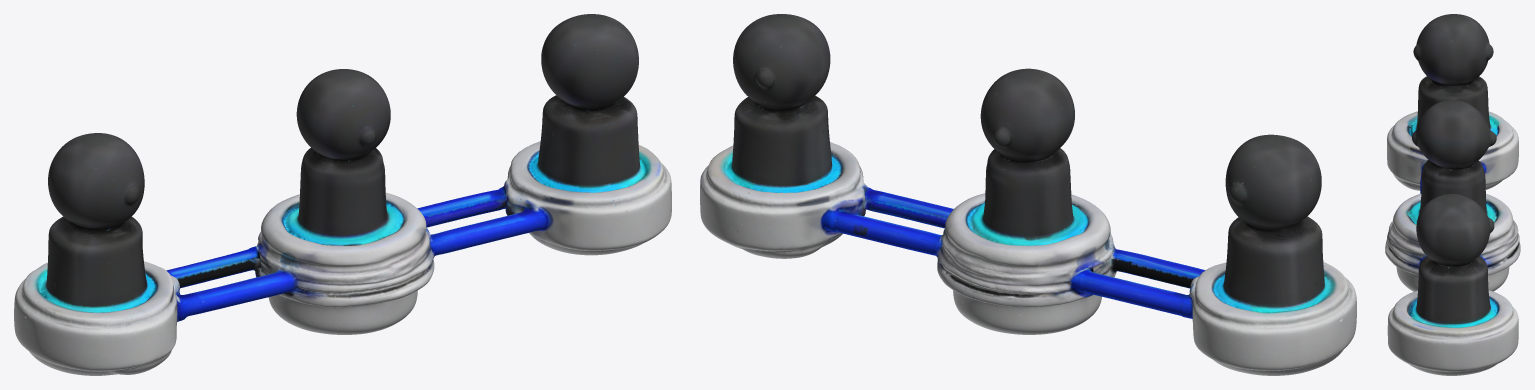
File: Team_workflow_symbol.glb
The picture shows the model from 3 angles, left to right: view 1: azimuth 30°, elevation 25°; view 2: azimuth 150°, elevation 25°; view 3: azimuth 270°, elevation 25°; orthographic projection. The views are drawn at different scales.
Size of the model in its own units: 2 by 0.7144 by 0.4946.
Materials: 1 (1 with a texture image).
